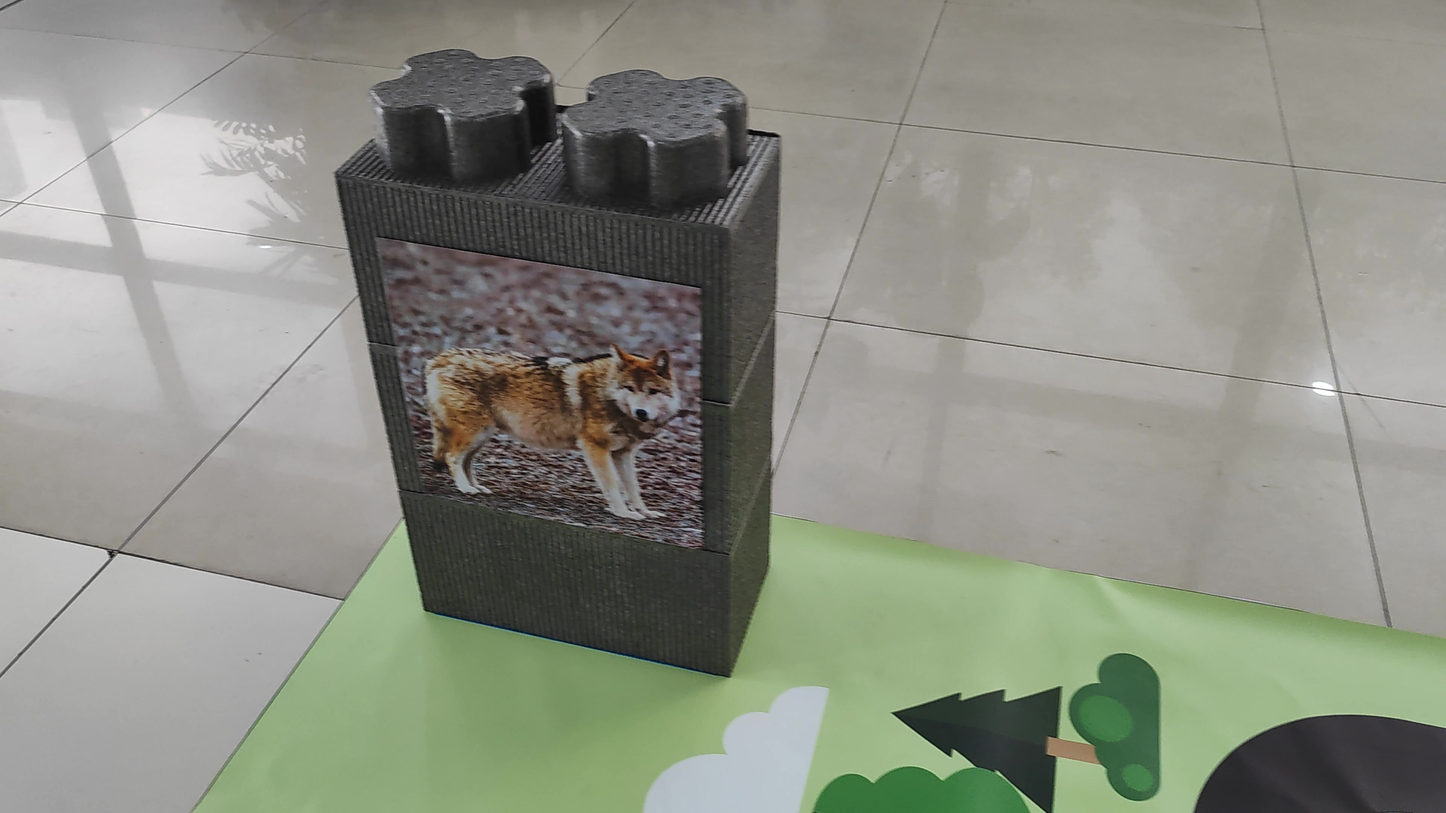wolf: (409, 305, 694, 522)
